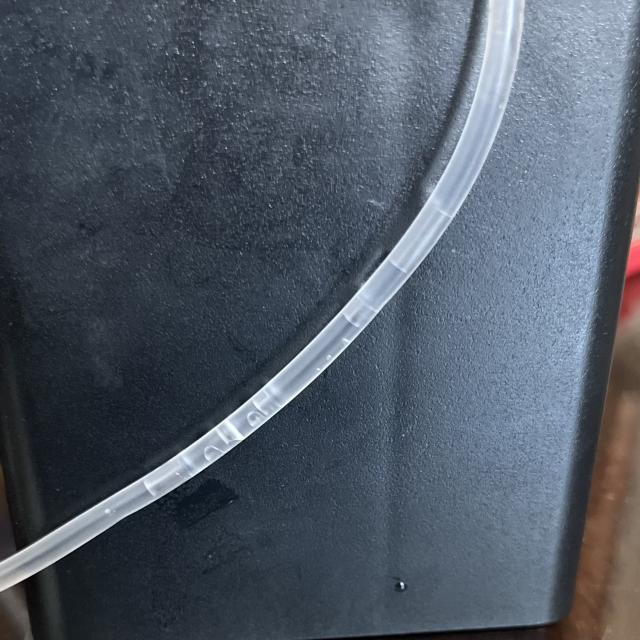bubble: (373, 177, 471, 274), (318, 272, 416, 345), (136, 445, 208, 508), (236, 388, 290, 442)
